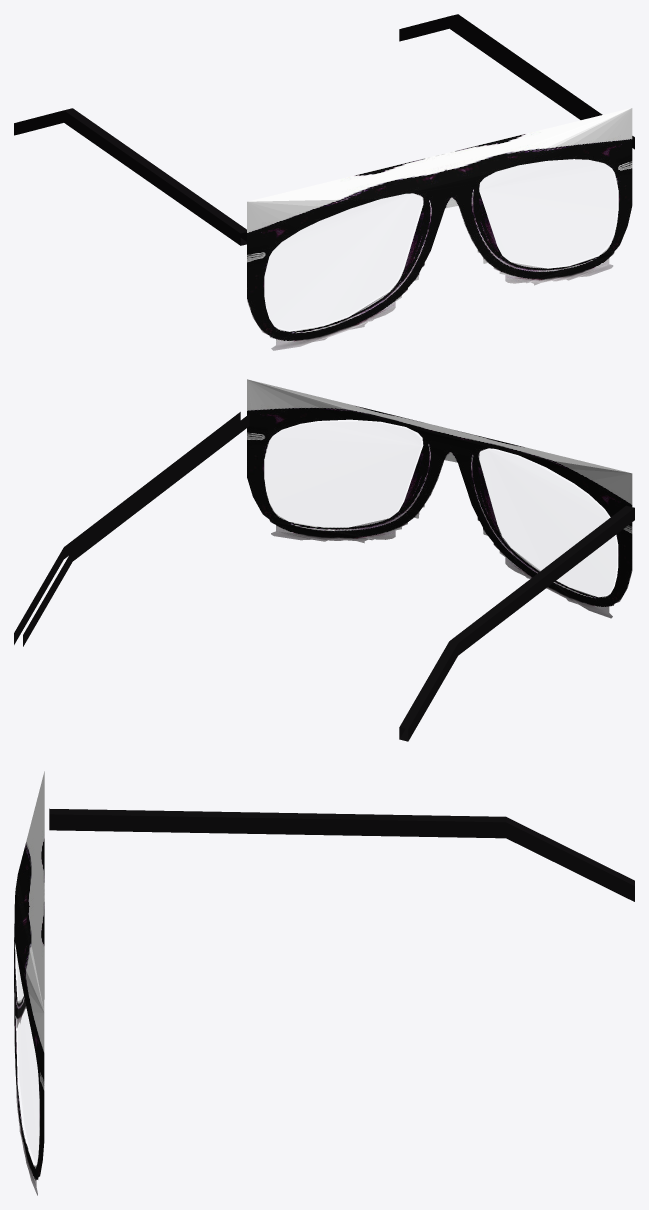
File: gothamstyle-matte-247_matte-black.glb
3 views of the same model, one above another, from view 1: azimuth 30°, elevation 25°; view 2: azimuth 150°, elevation 25°; view 3: azimuth 270°, elevation 25° (orthographic). The views are drawn at different scales.
Visible parts, largest first — view 1: frame_front, temple_viewer_left, temple_viewer_right; view 2: frame_front, temple_viewer_left, temple_viewer_right; view 3: temple_viewer_left, frame_front.
Part boxes in pixels (left/top/right/bottom): frame_front: left=247, top=108, right=632, bottom=350; temple_viewer_left: left=14, top=108, right=246, bottom=245; temple_viewer_right: left=399, top=14, right=634, bottom=149; frame_front: left=247, top=379, right=632, bottom=618; temple_viewer_left: left=399, top=505, right=634, bottom=741; temple_viewer_right: left=14, top=412, right=249, bottom=646; temple_viewer_left: left=49, top=808, right=634, bottom=901; frame_front: left=14, top=771, right=44, bottom=1195.
Bounding box in the file's own units: 0.1336 × 0.0495 × 0.141.
Materials: 3 (2 with a texture image).
